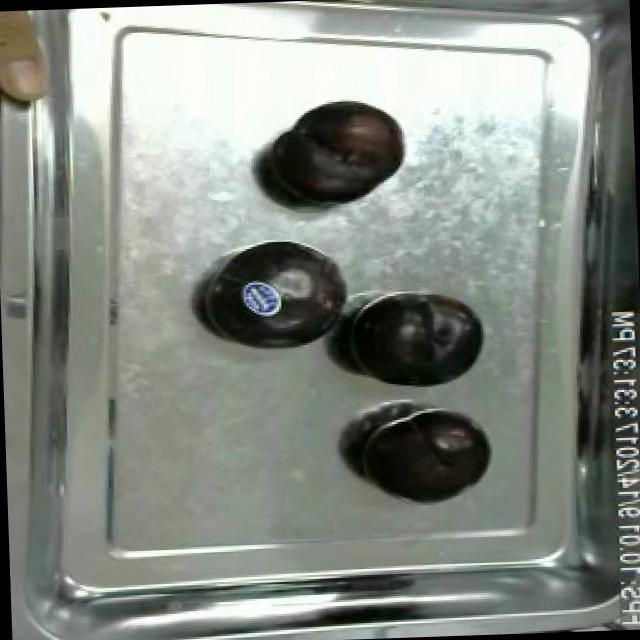Fruit: (190, 235, 356, 362), (254, 95, 410, 214), (339, 288, 488, 395), (350, 406, 492, 507), (0, 9, 64, 111)
